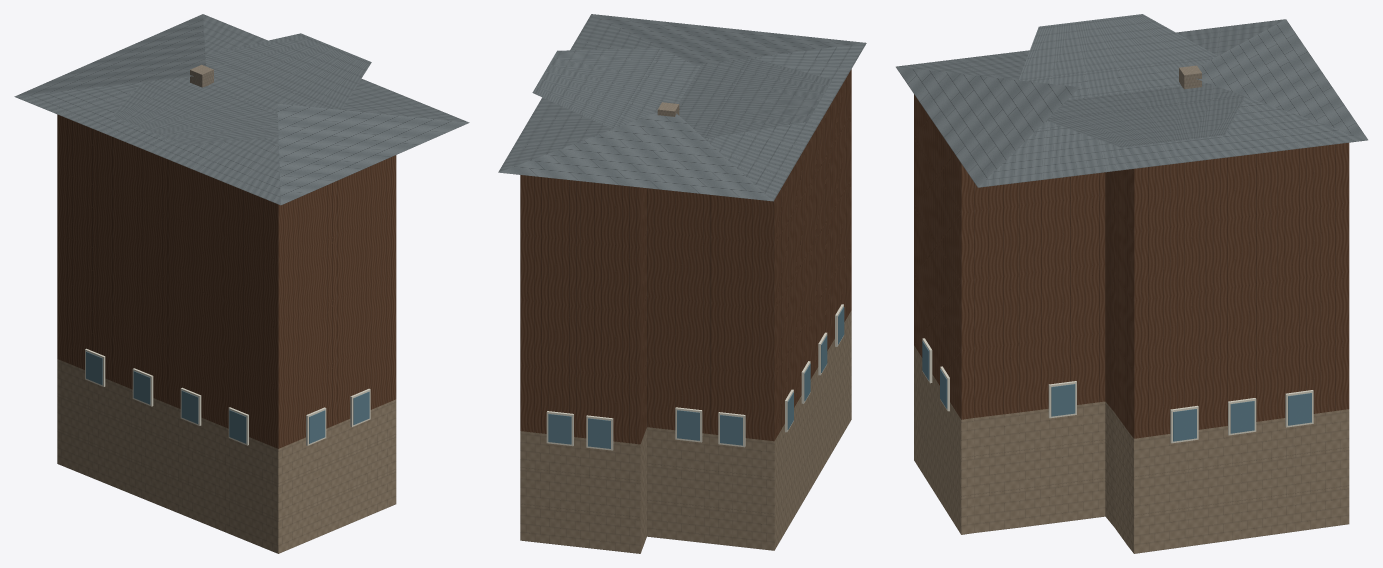
The model's file is core_0117.gltf.
3 renders of one model, left to right at view 1: azimuth 30°, elevation 25°; view 2: azimuth 150°, elevation 25°; view 3: azimuth 270°, elevation 25°, orthographic. The views are drawn at different scales.
Visible parts, largest first — view 1: core_0117; view 2: core_0117; view 3: core_0117.
Boxes of the visible parts, x1,y1,x2,y2 form: core_0117: (14, 14, 469, 553); core_0117: (498, 14, 866, 553); core_0117: (896, 14, 1367, 553).
Bounding box in the file's own units: 16.02 × 18.45 × 18.99.
6 materials, 6 textured.
